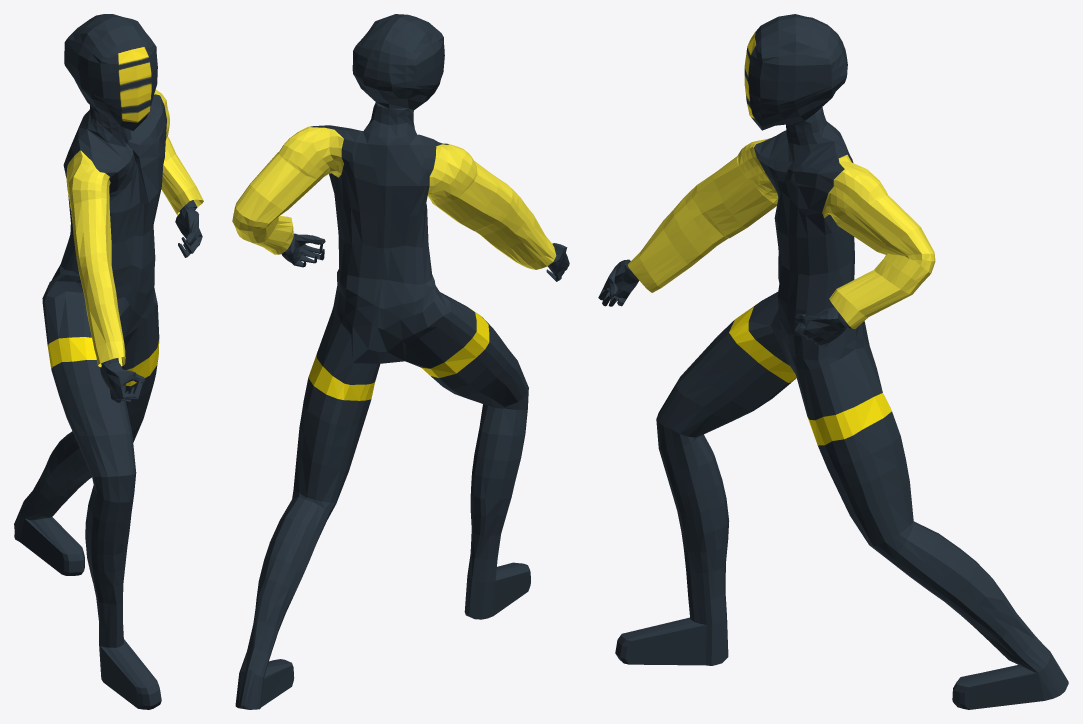
File: Sentry_Stun_Recover_000014.obj
3 views of the same model, side by side, from view 1: azimuth 30°, elevation 25°; view 2: azimuth 150°, elevation 25°; view 3: azimuth 270°, elevation 25° (orthographic). The views are drawn at different scales.
Parts seen in each view (by area): view 1: Cube; view 2: Cube; view 3: Cube.
Boxes of the visible parts, x1=… form: Cube: x1=14, y1=14, x2=203, y2=709; Cube: x1=232, y1=14, x2=569, y2=709; Cube: x1=598, y1=14, x2=1068, y2=709.
Bounding box in the file's own units: 1.23 × 3.61 × 2.31.
